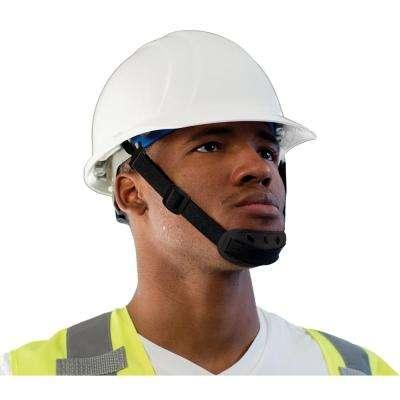helmet: (83, 29, 320, 198)
